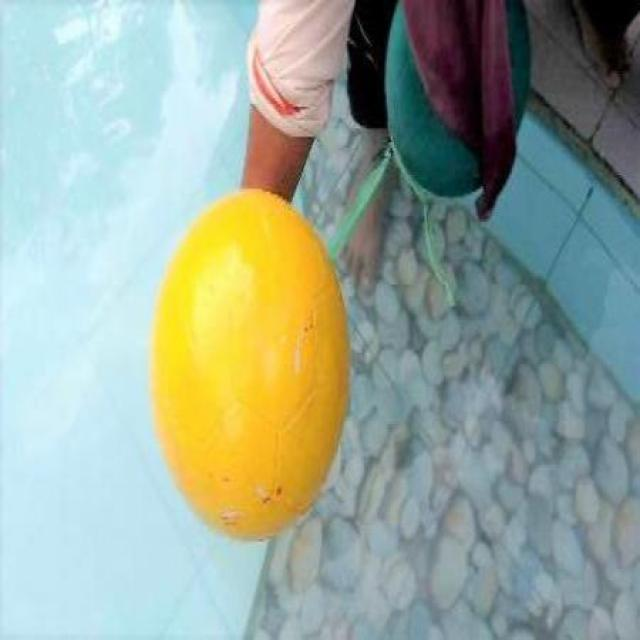buoy: (145, 183, 350, 539)
